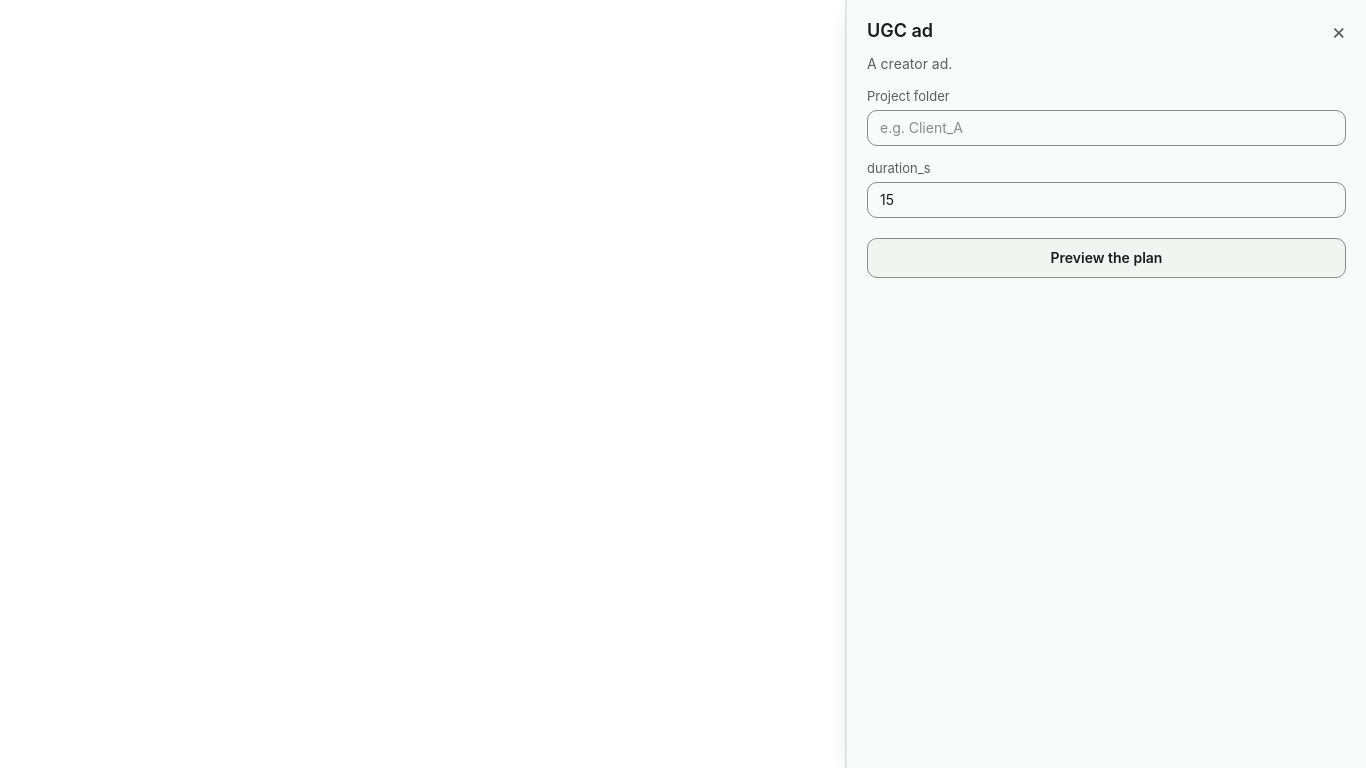
Test case: workflow intake drawer (F-WFL-02) › loads the workflow inputs, prices a plan and shows Approve with the total
Expected: the number field with id "wf-input-duration_s" is shown, [867,182,1346,218]
# Preview the plan.
Click the button with class "workflow-plan-button". click: (1106, 258)
box: [867,238,1346,278]
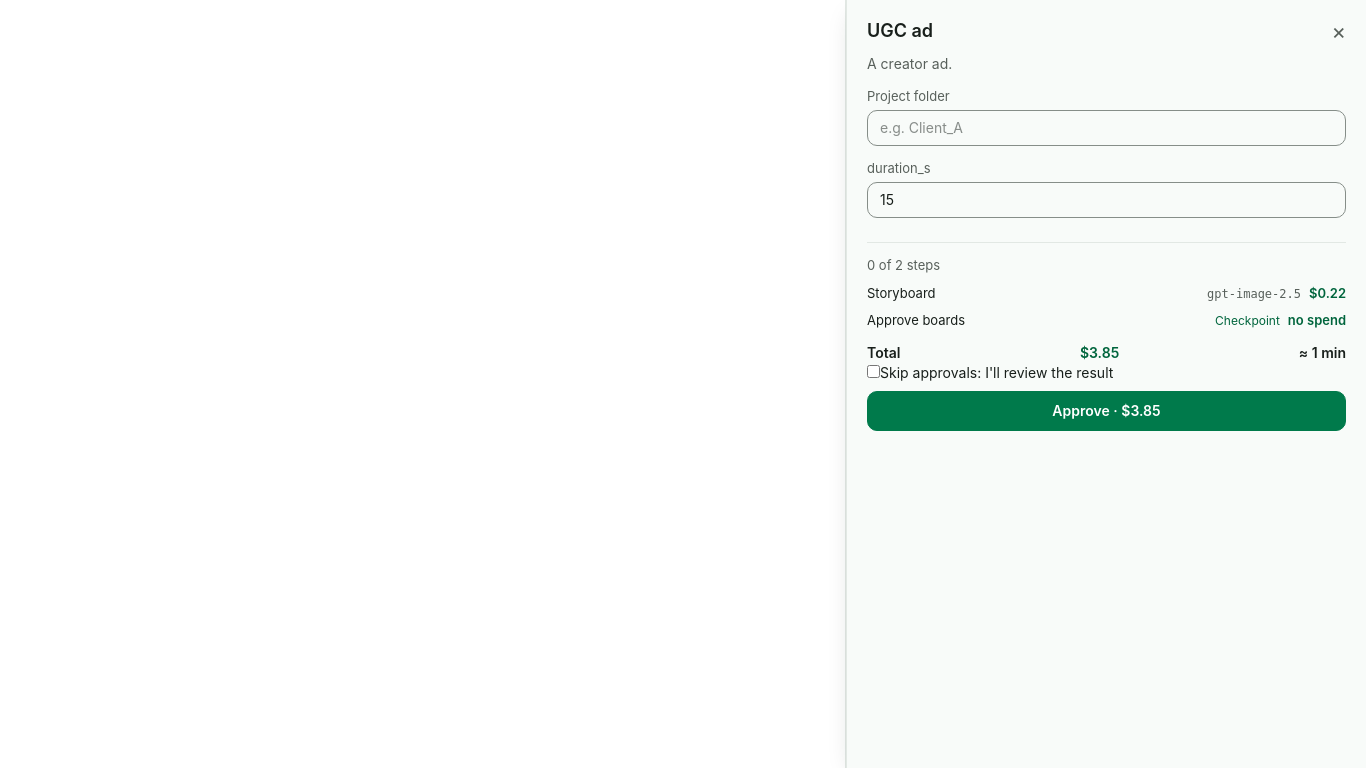
Expected: the button with class "workflow-approve-button" shows "$3.85", [867,391,1346,431]
